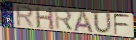A: (73, 10, 96, 34)
F: (113, 13, 131, 36)
H: (34, 6, 55, 31)
R: (54, 8, 74, 32), (16, 5, 36, 29)
U: (92, 11, 113, 35)
